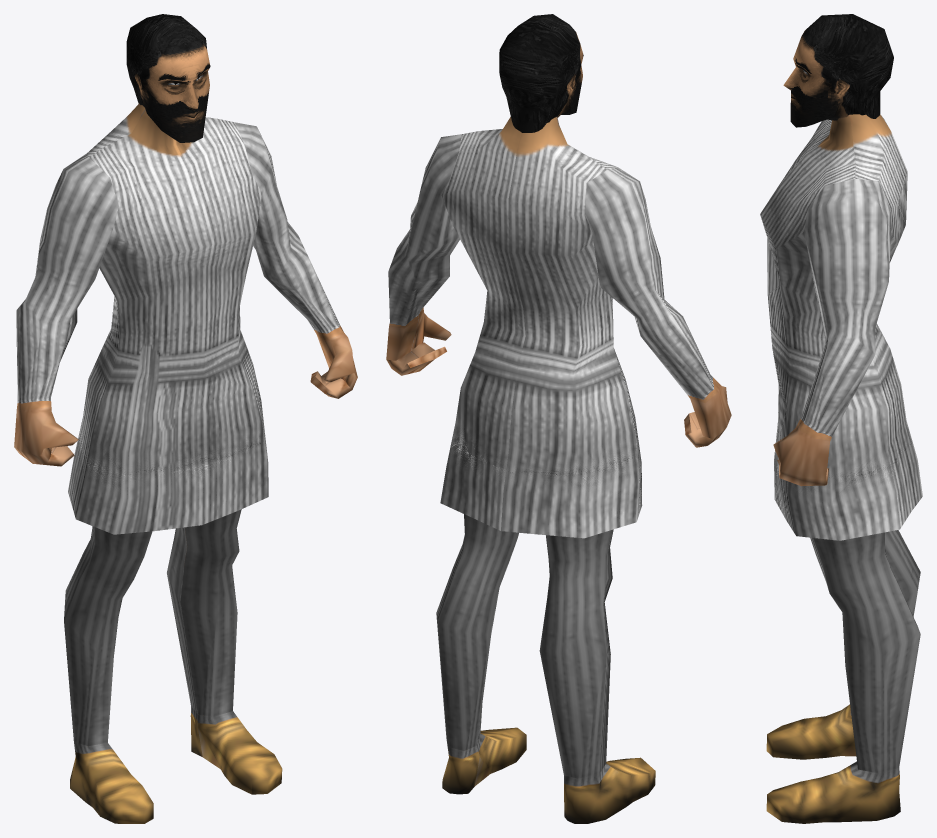
Rendered from token-javelin.glb.
3 renders of one model, left to right at view 1: azimuth 30°, elevation 25°; view 2: azimuth 150°, elevation 25°; view 3: azimuth 270°, elevation 25°, orthographic.
Size of the model in its own units: 0.1897 by 0.42 by 0.0811.
1 material, 1 textured.
